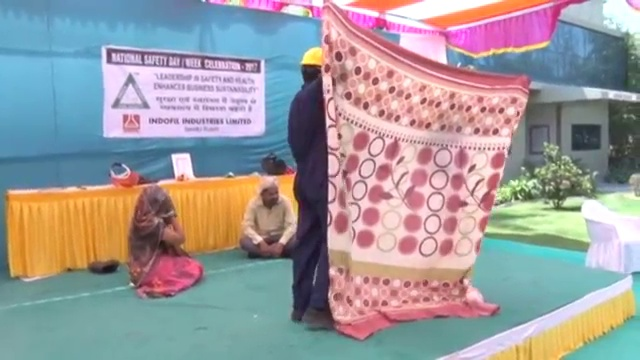helmet: (299, 46, 324, 68)
helmet_off: (139, 186, 170, 212), (258, 176, 281, 210)
helmet_on: (297, 46, 326, 82)
person: (283, 45, 334, 331), (130, 182, 203, 300), (238, 176, 296, 258)
